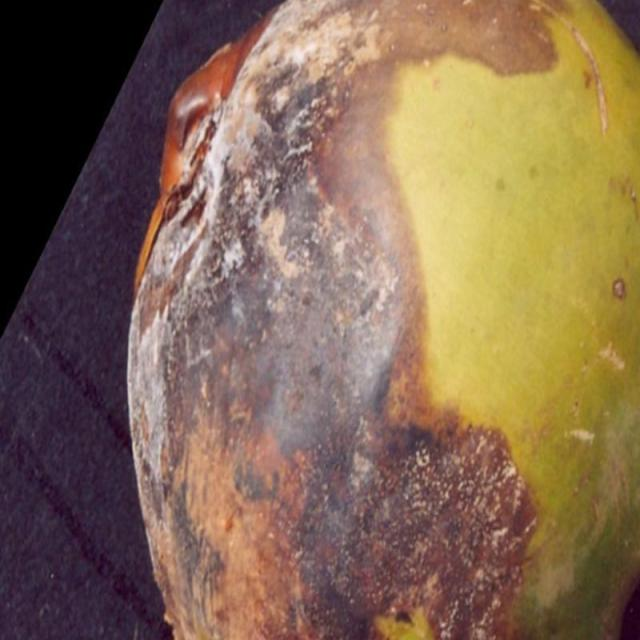damaged: (127, 0, 639, 639)
